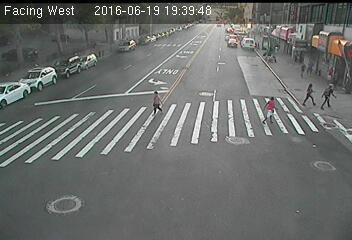neg: (70, 47, 97, 83), (90, 45, 115, 78), (59, 58, 79, 84), (178, 22, 186, 33), (153, 27, 161, 37), (167, 24, 174, 34), (126, 41, 133, 50), (143, 34, 150, 43), (162, 34, 168, 42)
pos: (256, 93, 283, 129), (145, 88, 168, 120), (318, 80, 341, 110), (303, 87, 319, 107), (298, 62, 310, 79), (305, 58, 317, 73)
